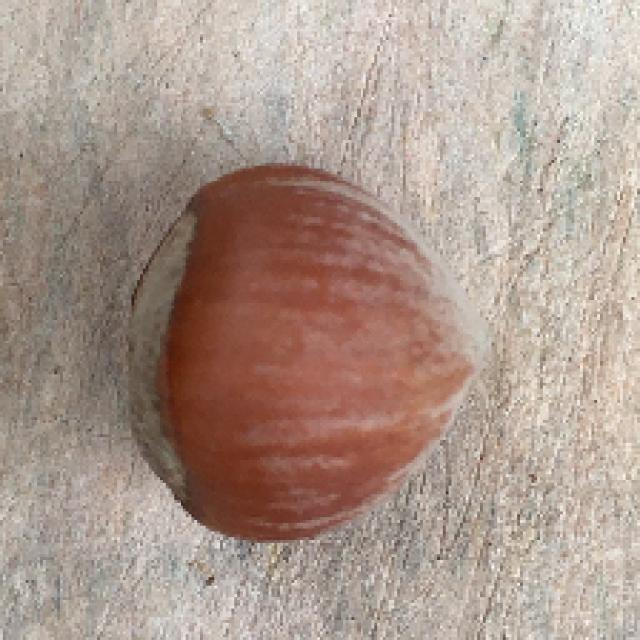qualityHazelnut: (119, 158, 487, 546)
